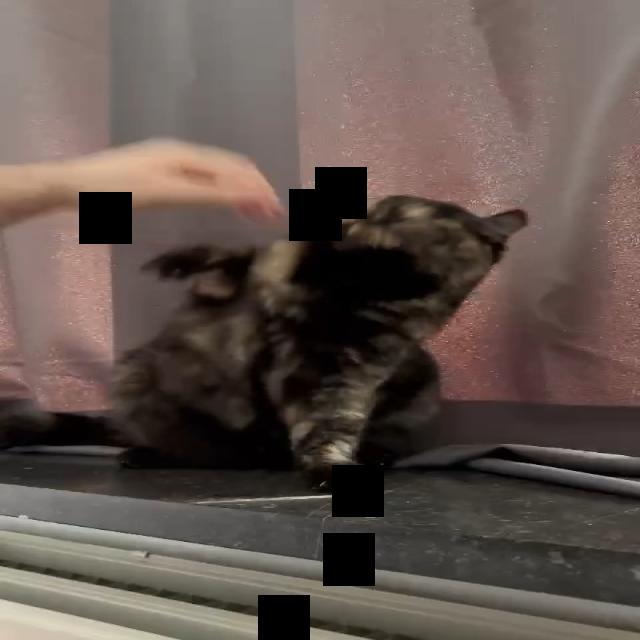authorized: (103, 193, 528, 494)
